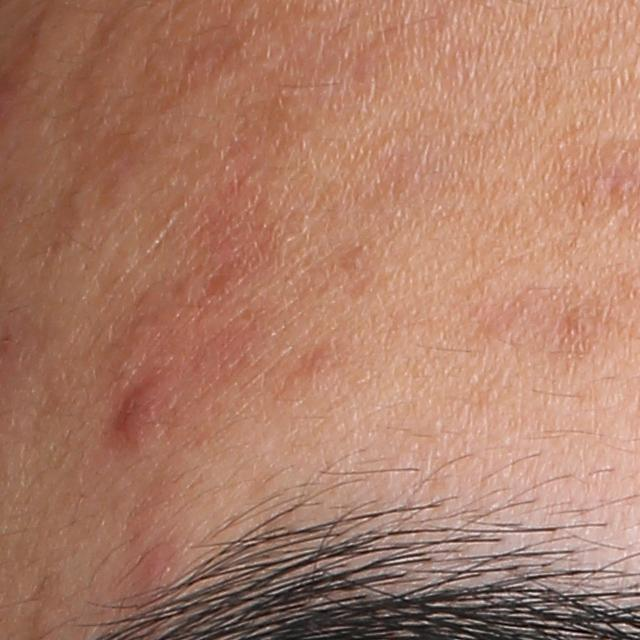papule: (107, 383, 160, 450)
